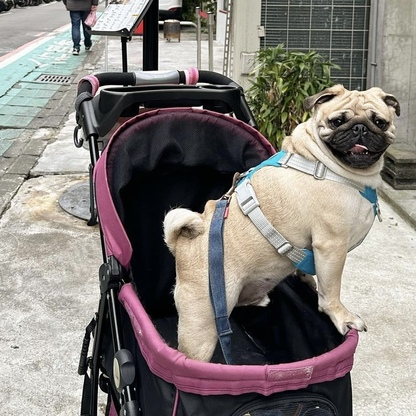Pug: (155, 77, 404, 365)
